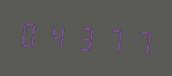four: (45, 17, 71, 54)
seven: (99, 20, 125, 58), (126, 22, 152, 60)
three: (72, 19, 98, 56)
zero: (18, 15, 44, 53)
